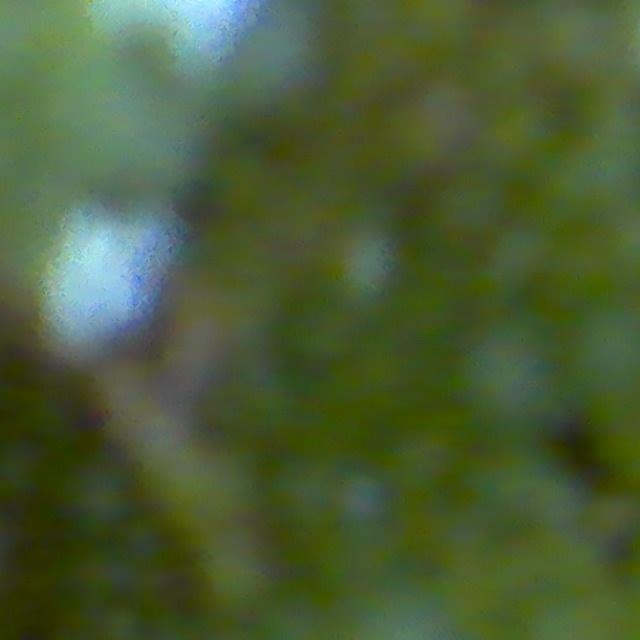SeaGrape: (453, 313, 566, 432), (322, 223, 409, 314), (333, 468, 389, 525)
